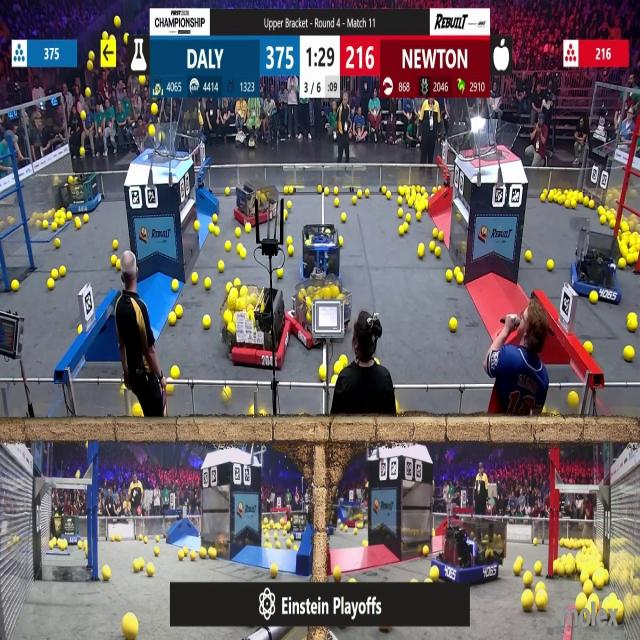ball_airborne: (150, 104, 156, 115), (148, 126, 154, 137), (114, 15, 120, 26), (140, 75, 146, 85), (102, 32, 108, 41), (85, 87, 90, 97), (80, 111, 85, 120), (79, 147, 84, 156), (123, 34, 127, 44)
ball_ground: (124, 616, 139, 640), (522, 592, 533, 612), (536, 593, 546, 611), (628, 315, 638, 331), (575, 594, 585, 610), (564, 564, 575, 578), (568, 392, 578, 407), (625, 347, 635, 361), (584, 582, 594, 595), (617, 606, 625, 622), (319, 364, 327, 379), (133, 405, 142, 418), (204, 315, 212, 329), (102, 566, 110, 580), (430, 566, 438, 580), (334, 566, 342, 580), (524, 572, 532, 586), (515, 561, 523, 574), (169, 313, 177, 326), (134, 559, 142, 572), (222, 386, 230, 399), (271, 563, 278, 577), (450, 318, 458, 330), (209, 548, 217, 560), (172, 365, 180, 377), (175, 306, 182, 319), (418, 245, 425, 258), (534, 562, 541, 575), (590, 291, 598, 302), (586, 343, 594, 354), (446, 271, 454, 282), (204, 278, 212, 289), (335, 362, 343, 373), (456, 274, 464, 285), (11, 280, 18, 292), (190, 273, 197, 285), (147, 563, 154, 575), (620, 257, 627, 269), (554, 561, 560, 575), (276, 270, 284, 280), (222, 312, 230, 322), (585, 199, 593, 209), (546, 261, 553, 272), (167, 384, 174, 395), (341, 355, 348, 366), (227, 322, 234, 333), (173, 280, 179, 292), (60, 267, 66, 279), (526, 250, 532, 262), (60, 539, 68, 548), (535, 583, 544, 591), (240, 249, 247, 259), (416, 202, 423, 212), (218, 262, 224, 273), (47, 279, 53, 290), (224, 241, 230, 252), (201, 549, 207, 560), (406, 213, 413, 222), (316, 184, 323, 193), (193, 220, 199, 230), (434, 247, 440, 257), (51, 270, 57, 280), (115, 262, 121, 272), (422, 545, 428, 555), (190, 552, 196, 562), (397, 208, 403, 218), (90, 50, 96, 60), (235, 279, 242, 287), (213, 226, 220, 234), (430, 241, 435, 252), (236, 229, 242, 238), (212, 214, 218, 223), (110, 255, 116, 264), (416, 212, 422, 221), (246, 223, 252, 232), (330, 376, 336, 385), (570, 200, 576, 209), (546, 192, 552, 201), (288, 246, 293, 256), (112, 240, 117, 250), (342, 212, 347, 222), (432, 230, 437, 240), (249, 408, 254, 418), (398, 224, 403, 234), (440, 232, 445, 242), (609, 218, 614, 228), (364, 190, 371, 197), (55, 240, 61, 248), (286, 237, 292, 245), (386, 190, 392, 198), (335, 200, 341, 208), (209, 223, 215, 231), (600, 216, 606, 224), (540, 192, 546, 200), (397, 198, 403, 206), (362, 539, 368, 547), (409, 200, 415, 208), (225, 283, 231, 291), (286, 540, 292, 548), (564, 200, 570, 208), (335, 186, 341, 194), (76, 325, 82, 333), (237, 244, 243, 252), (179, 552, 184, 561), (76, 219, 81, 228), (352, 197, 357, 206), (51, 221, 56, 230), (425, 577, 432, 583), (83, 215, 88, 223), (340, 238, 345, 246), (67, 212, 72, 220), (224, 187, 229, 195), (43, 220, 48, 228), (405, 224, 410, 232), (83, 551, 88, 559), (78, 540, 83, 548), (358, 190, 363, 198), (350, 576, 356, 582), (412, 578, 418, 584), (284, 209, 288, 218), (532, 538, 538, 544), (284, 186, 289, 193), (120, 384, 125, 391), (154, 546, 158, 554), (76, 470, 80, 478), (324, 187, 328, 195), (115, 535, 120, 541), (277, 541, 281, 548), (287, 202, 291, 209), (155, 535, 159, 542), (267, 541, 271, 548), (119, 538, 123, 545), (354, 528, 358, 535), (144, 536, 148, 542), (275, 532, 278, 540), (267, 534, 271, 540), (456, 268, 460, 274), (289, 187, 293, 193), (140, 534, 144, 540)
goal: (464, 121, 521, 160), (129, 131, 189, 159)
robot_blue: (440, 520, 507, 588), (571, 236, 619, 302), (300, 220, 339, 281), (65, 172, 102, 213), (56, 515, 81, 545), (286, 512, 309, 541)
robot_red: (222, 285, 290, 367), (291, 277, 350, 348), (234, 177, 278, 226)
